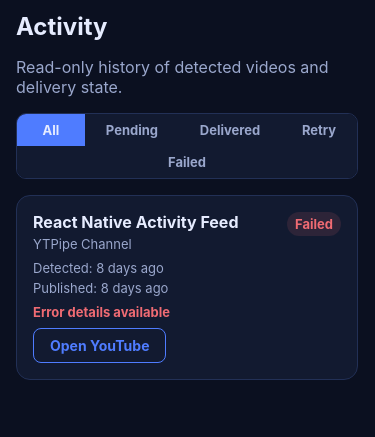
Scenario: ActivityScreen › shows an inline error when the YouTube link cannot open
The image size is (375, 437).
Click the link "Open YouTube".
click(100, 346)  # box [33,328,166,363]
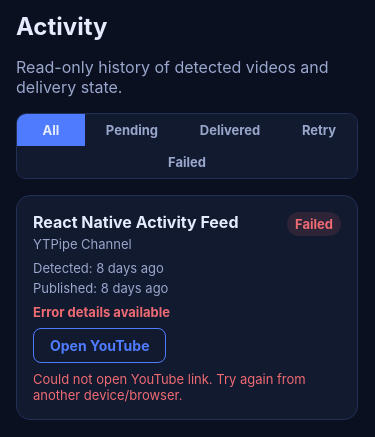
Check: the text "Could not open YouTube link. Try again from another device/browser." is shown, box [33,371,341,403]
